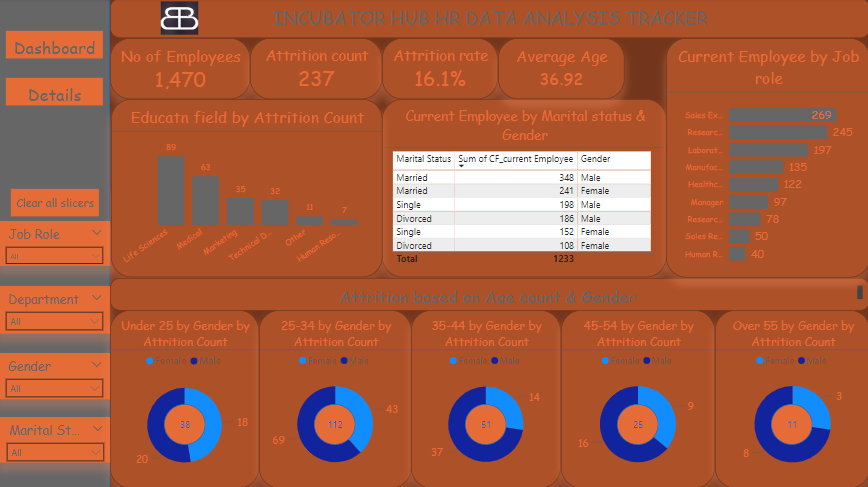

The dashboard page shown, as its layout file describes it:
{"tool":"powerbi","page":{"name":"HR view1","canvas":[1280,720],"ordinal":0},"visuals":[{"type":"textbox","box":[163,0,1117,59],"z":0},{"type":"card","title":"No of Employees","fields":{"Values":["Sum(HR data.Employee Count)"]},"box":[163,59,206,90],"z":1000},{"type":"slicer","title":"Current Employees","fields":{"Values":["HR data.Job Role"]},"box":[0,260,163,175],"z":2000},{"type":"card","title":"Attrition count","fields":{"Values":["Sum(HR data.Count of Attrition)"]},"box":[369,59,194,90],"z":3000},{"type":"card","title":"Attrition rate","fields":{"Values":["HR data.Attrition rate"]},"box":[563,59,170,90],"z":4000},{"type":"shape","box":[0,0,163,720],"z":5000},{"type":"actionButton","box":[11,48,142,40],"z":6000},{"type":"tableEx","title":"Current Employee by Marital status & Gender","fields":{"Values":["HR data.Marital Status","Sum(HR data.CF_current Employee)","HR data.Gender"]},"box":[563,149,418,262],"z":7000},{"type":"actionButton","box":[11,118,142,40],"z":8000},{"type":"slicer","title":"No of Employees","fields":{"Values":["HR data.Department"]},"box":[0,423,163,70],"z":9000},{"type":"slicer","title":"No of Employees","fields":{"Values":["HR data.Gender"]},"box":[0,521,163,68],"z":10000},{"type":"slicer","title":"No of Employees","fields":{"Values":["HR data.Job Role"]},"box":[0,327,163,66],"z":11000},{"type":"slicer","title":"No of Employees","fields":{"Values":["HR data.Marital Status"]},"box":[1,615,163,67],"z":12000},{"type":"card","title":"Average Age","fields":{"Values":["Avg(HR data.Age)"]},"box":[733,59,186,90],"z":13000},{"type":"columnChart","title":"Educatn field by Attrition Count","fields":{"Category":["HR data.Education Field"],"Y":["Sum(HR data.Count of Attrition)"]},"box":[164,149,399,262],"z":14000},{"type":"textbox","box":[163,411,1117,48],"z":15000},{"type":"image","box":[228,0,75,59],"z":16000},{"type":"clusteredBarChart","title":"Current Employee by Job role","fields":{"Category":["HR data.Job Role"],"Y":["Sum(HR data.CF_current Employee)"]},"box":[980,59,300,352],"z":17000},{"type":"donutChart","title":"Under 25 by Gender by Attrition Count","fields":{"Category":["HR data.Gender"],"Y":["Sum(HR data.Count of Attrition)"],"Series":["HR data.CF_age band"]},"box":[163,458,218.5,262],"z":18000},{"type":"actionButton","box":[17,280,129,40],"z":19000},{"type":"donutChart","title":"25-34 by Gender by Attrition Count","fields":{"Category":["HR data.Gender"],"Y":["Sum(HR data.Count of Attrition)"],"Series":["HR data.CF_age band"]},"box":[381.5,458,224.5,262],"z":20000},{"type":"donutChart","title":"35-44 by Gender by Attrition Count","fields":{"Category":["HR data.Gender"],"Y":["Sum(HR data.Count of Attrition)"],"Series":["HR data.CF_age band"]},"box":[606,458,220,262],"z":21000},{"type":"donutChart","title":"45-54 by Gender by Attrition Count","fields":{"Category":["HR data.Gender"],"Y":["Sum(HR data.Count of Attrition)"],"Series":["HR data.CF_age band"]},"box":[826,458,226,262],"z":22000},{"type":"donutChart","title":"Over 55 by Gender by Attrition Count","fields":{"Category":["HR data.Gender"],"Y":["Sum(HR data.Count of Attrition)"],"Series":["HR data.CF_age band"]},"box":[1052,458,228,262],"z":23000},{"type":"shape","box":[242,597,61,60],"z":24000},{"type":"shape","box":[1135,597,61,60],"z":25000},{"type":"shape","box":[908,597,61,60],"z":26000},{"type":"shape","box":[685,597,61,60],"z":27000},{"type":"shape","box":[463,597,61,60],"z":28000}]}

Visuals, with their boxes in screenshot pixels (x1, y1, x2, y2), scaled from the page's 1280x720 canvas onto the 868x487 screenshot:
textbox: 111, 0, 867, 40
"No of Employees" card: 111, 40, 250, 101
"Current Employees" slicer: 0, 176, 111, 294
"Attrition count" card: 250, 40, 382, 101
"Attrition rate" card: 382, 40, 497, 101
shape: 0, 0, 111, 486
actionButton: 7, 32, 104, 60
"Current Employee by Marital status & Gender" tableEx: 382, 101, 665, 278
actionButton: 7, 80, 104, 107
"No of Employees" slicer: 0, 286, 111, 333
"No of Employees" slicer: 0, 352, 111, 398
"No of Employees" slicer: 0, 221, 111, 266
"No of Employees" slicer: 1, 416, 111, 461
"Average Age" card: 497, 40, 623, 101
"Educatn field by Attrition Count" columnChart: 111, 101, 382, 278
textbox: 111, 278, 867, 310
image: 155, 0, 205, 40
"Current Employee by Job role" clusteredBarChart: 665, 40, 867, 278
"Under 25 by Gender by Attrition Count" donutChart: 111, 310, 259, 486
actionButton: 12, 189, 99, 216
"25-34 by Gender by Attrition Count" donutChart: 259, 310, 411, 486
"35-44 by Gender by Attrition Count" donutChart: 411, 310, 560, 486
"45-54 by Gender by Attrition Count" donutChart: 560, 310, 713, 486
"Over 55 by Gender by Attrition Count" donutChart: 713, 310, 867, 486
shape: 164, 404, 205, 444
shape: 770, 404, 811, 444
shape: 616, 404, 657, 444
shape: 465, 404, 506, 444
shape: 314, 404, 355, 444
